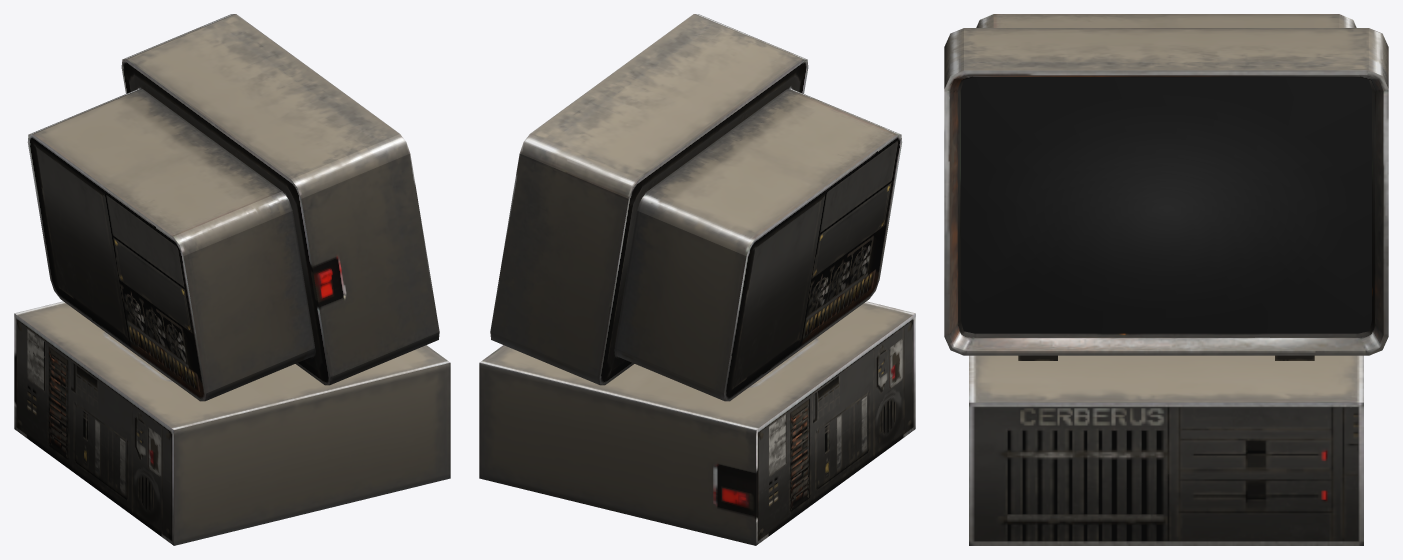
The model's file is computer.glb.
The picture shows the model from 3 angles, left to right: view 1: azimuth 30°, elevation 25°; view 2: azimuth 150°, elevation 25°; view 3: azimuth 270°, elevation 25°; orthographic projection. The views are drawn at different scales.
Parts seen in each view (by area): view 1: ComputerTower-LowPoly.003; view 2: ComputerTower-LowPoly.003; view 3: ComputerTower-LowPoly.003.
Part boxes in pixels (box(x1,y1,x2,y2)): ComputerTower-LowPoly.003: box(14, 14, 450, 545); ComputerTower-LowPoly.003: box(479, 14, 915, 545); ComputerTower-LowPoly.003: box(944, 14, 1388, 545).
Size of the model in its own units: 0.4 by 0.4959 by 0.45.
2 materials, 2 textured.
